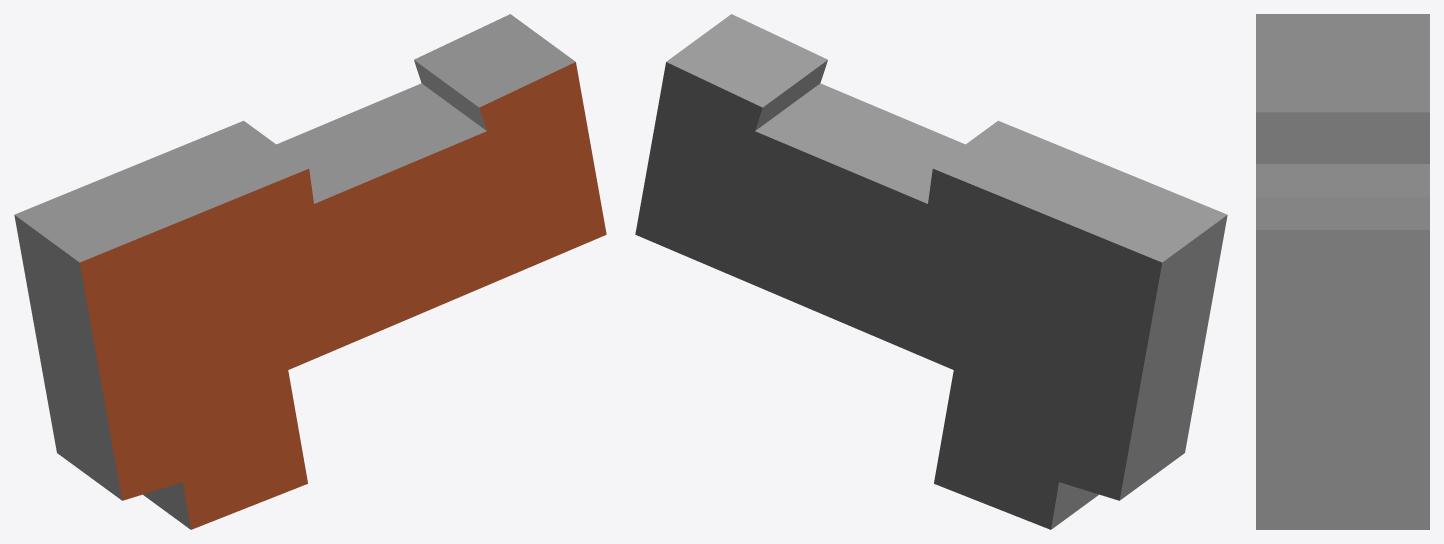
File: construction_4666_assumed_A_Casa_h6m.obj
The picture shows the model from 3 angles, left to right: view 1: azimuth 30°, elevation 25°; view 2: azimuth 150°, elevation 25°; view 3: azimuth 270°, elevation 25°; orthographic projection. The views are drawn at different scales.
Parts seen in each view (by area): view 1: construction_4666_assumed_A_Casa; view 2: construction_4666_assumed_A_Casa; view 3: construction_4666_assumed_A_Casa.
Boxes of the visible parts, box(x1,y1,x2,y2) form: construction_4666_assumed_A_Casa: box(14, 14, 606, 529); construction_4666_assumed_A_Casa: box(635, 14, 1227, 529); construction_4666_assumed_A_Casa: box(1256, 14, 1429, 529).
Bounding box in the file's own units: 27.9 × 18.93 × 6.
